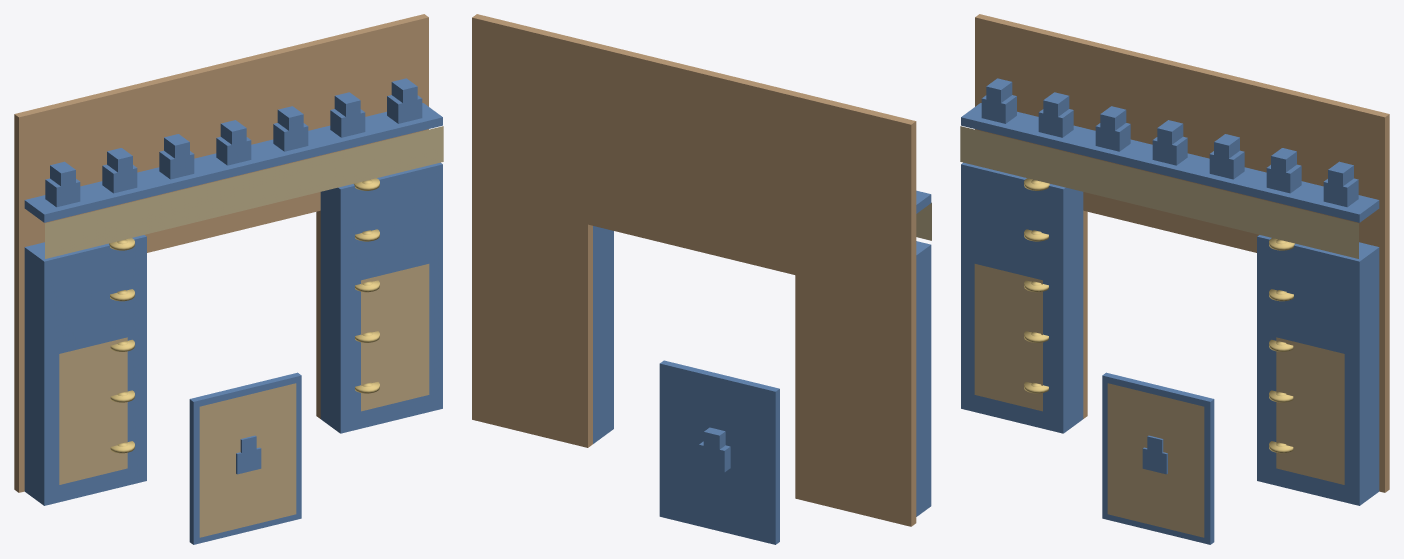
Rendered from mesopotamia.glb.
3 renders of one model, left to right at view 1: azimuth 30°, elevation 25°; view 2: azimuth 150°, elevation 25°; view 3: azimuth 330°, elevation 25°, orthographic. The views are drawn at different scales.
Visible parts, largest first — view 1: Glaze_jambL, Glaze_jambR, Brick_backHdr, Band_frieze, Brick_backL, Relief_field, Brick_backR, Relief_lamassuL, Relief_lamassuR, Glaze_lintelcourse, Glaze_relframe, Glaze_m1.003 (+14 smaller); view 2: Brick_backL, Brick_backR, Brick_backHdr, Glaze_relframe, Glaze_jambR, Glaze_jambL, Glaze_m1.007; view 3: Glaze_jambR, Glaze_jambL, Brick_backHdr, Band_frieze, Brick_backR, Relief_field, Brick_backL, Relief_lamassuR, Relief_lamassuL, Glaze_lintelcourse, Glaze_relframe, Glaze_m1.003 (+14 smaller).
Part boxes in pixels (x1,y1,x2,y2): Glaze_jambL: [24, 235, 146, 505]; Glaze_jambR: [320, 162, 442, 433]; Brick_backHdr: [123, 40, 320, 252]; Band_frieze: [45, 126, 443, 258]; Brick_backL: [14, 87, 126, 492]; Relief_field: [199, 383, 296, 537]; Brick_backR: [316, 14, 428, 418]; Relief_lamassuL: [59, 337, 127, 484]; Relief_lamassuR: [361, 264, 429, 411]; Glaze_lintelcourse: [24, 103, 442, 222]; Glaze_relframe: [189, 372, 301, 544]; Glaze_m1.003: [216, 136, 251, 165]; Brick_backL: [795, 93, 916, 526]; Brick_backR: [472, 14, 592, 447]; Brick_backHdr: [588, 42, 799, 274]; Glaze_relframe: [659, 360, 779, 544]; Glaze_jambR: [593, 226, 613, 443]; Glaze_jambL: [916, 241, 931, 516]; Glaze_m1.007: [699, 441, 730, 472]; Glaze_jambR: [1257, 235, 1379, 505]; Glaze_jambL: [961, 162, 1083, 433]; Brick_backHdr: [1083, 40, 1280, 252]; Band_frieze: [960, 126, 1358, 258]; Brick_backR: [1277, 87, 1389, 492]; Relief_field: [1107, 383, 1204, 537]; Brick_backL: [975, 14, 1087, 418]; Relief_lamassuR: [1276, 337, 1344, 484]; Relief_lamassuL: [974, 264, 1042, 411]; Glaze_lintelcourse: [961, 103, 1379, 222]; Glaze_relframe: [1102, 372, 1214, 544]; Glaze_m1.003: [1152, 136, 1187, 165].
Size of the model in its own units: 7.2 by 7.5 by 0.96.
